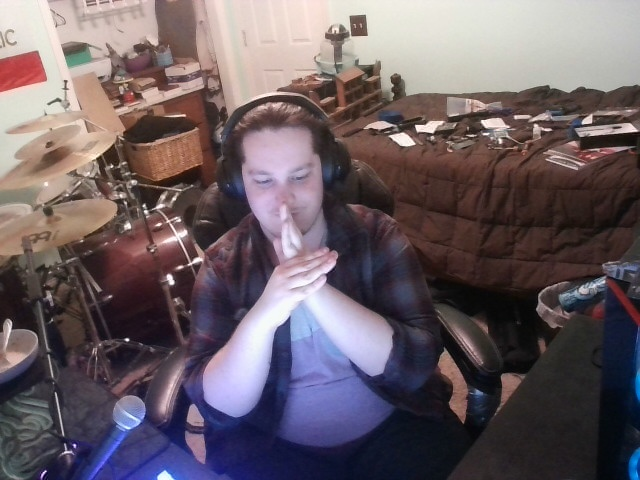quiet: (231, 201, 379, 318)
